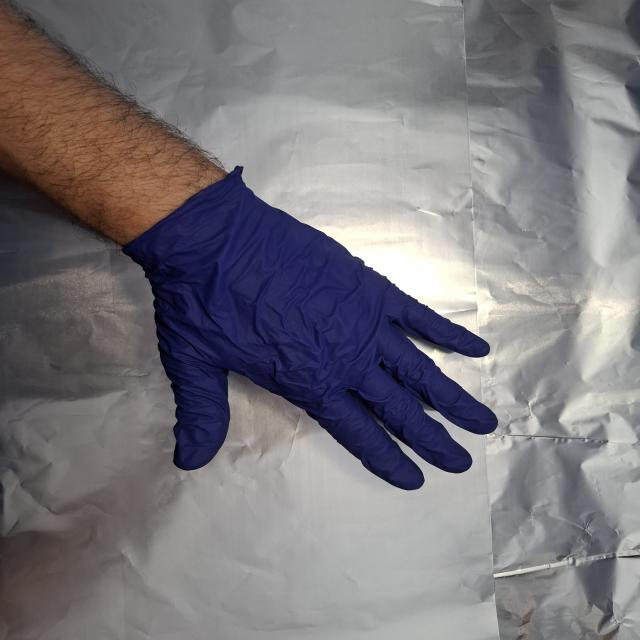glove_on: (134, 171, 500, 492)
